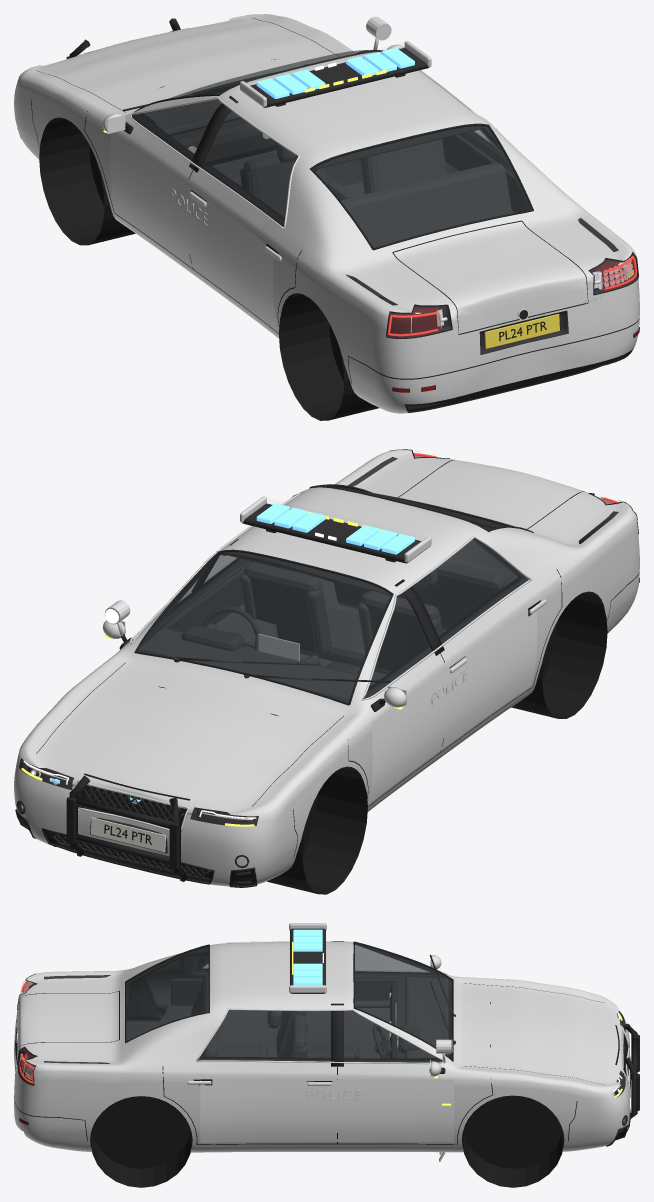
The model's file is police_patrol.glb.
3 views of the same model, one above another, from view 1: azimuth 30°, elevation 25°; view 2: azimuth 150°, elevation 25°; view 3: azimuth 270°, elevation 25° (orthographic). The views are drawn at different scales.
Visible parts, largest first — view 1: police_patrol; view 2: police_patrol; view 3: police_patrol.
Boxes of the visible parts, x1=… form: police_patrol: x1=14, y1=14, x2=639, y2=420; police_patrol: x1=14, y1=449, x2=639, y2=894; police_patrol: x1=14, y1=923, x2=639, y2=1187.
Size of the model in its own units: 2.11 by 1.58 by 4.88.
